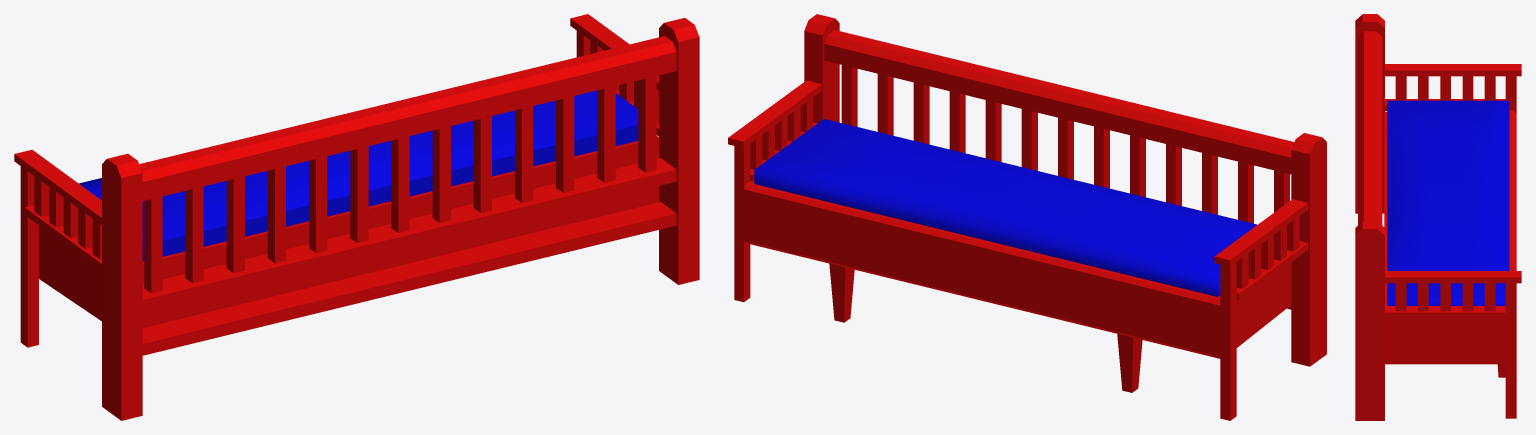
The model's file is Prop_Soffbord_01.fbx.
3 views of the same model, side by side, from view 1: azimuth 30°, elevation 25°; view 2: azimuth 150°, elevation 25°; view 3: azimuth 270°, elevation 25° (orthographic). The views are drawn at different scales.
Parts seen in each view (by area): view 1: Prop_Soffbord_01; view 2: Prop_Soffbord_01; view 3: Prop_Soffbord_01.
Boxes of the visible parts, box(x1,y1,x2,y2) form: Prop_Soffbord_01: box(14, 14, 699, 420); Prop_Soffbord_01: box(728, 14, 1326, 420); Prop_Soffbord_01: box(1355, 14, 1521, 420).
Size of the model in its own units: 240 by 99.67 by 78.2.
